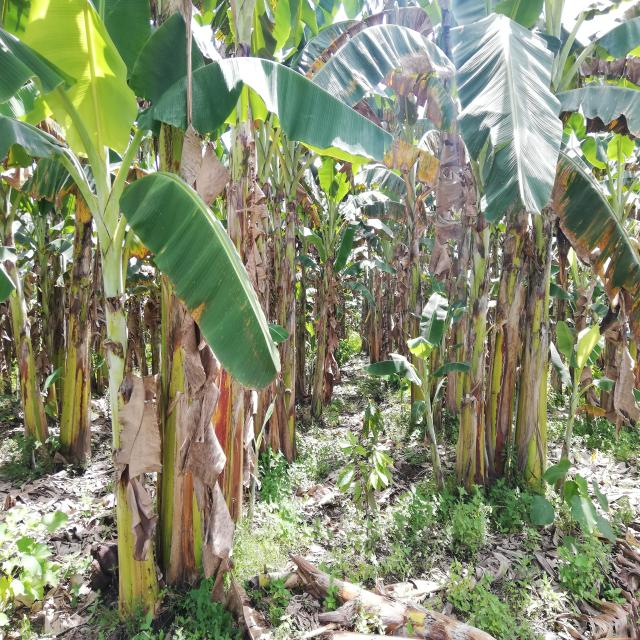Banana-plant: (101, 180, 156, 629), (158, 99, 208, 586), (224, 107, 263, 534), (46, 159, 96, 466), (0, 174, 45, 466), (520, 172, 557, 510), (459, 162, 490, 511), (489, 196, 522, 492), (400, 151, 434, 428), (311, 213, 344, 434), (279, 138, 299, 465)
